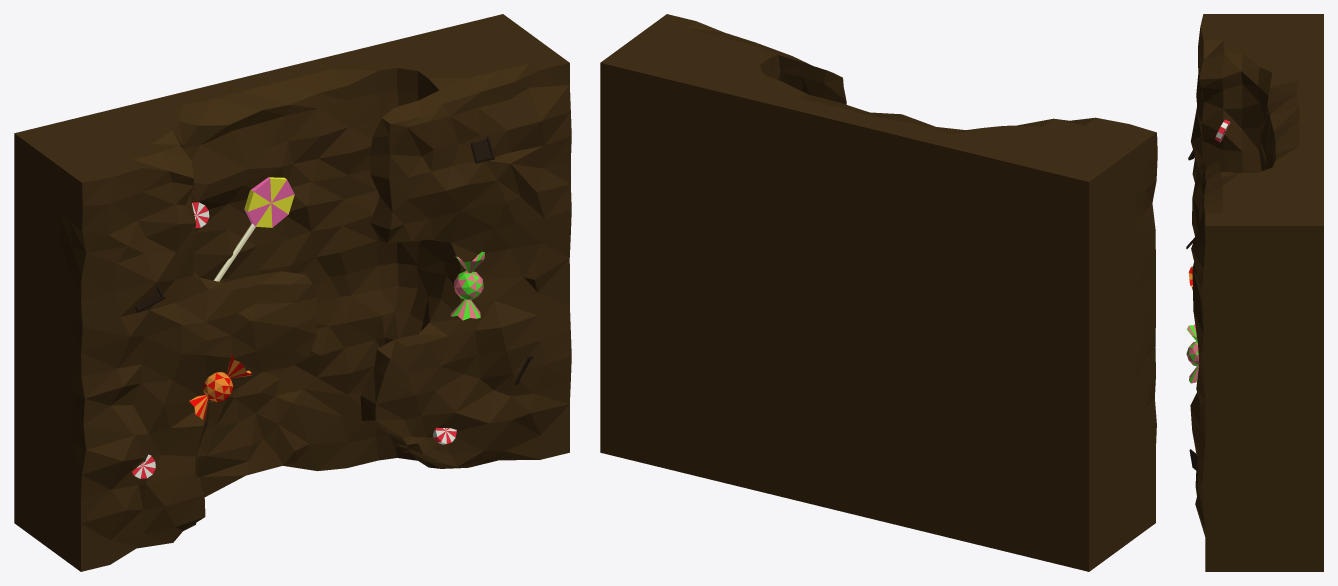
The model's file is level_Module_05.fbx.
3 views of the same model, side by side, from view 1: azimuth 30°, elevation 25°; view 2: azimuth 150°, elevation 25°; view 3: azimuth 270°, elevation 25° (orthographic). The views are drawn at different scales.
Visible parts, largest first — view 1: Cube, Cylinder, Candy, Candy.001; view 2: Cube; view 3: Cube, Candy.
Boxes of the visible parts, box(x1,y1,x2,y2) form: Cube: box(14, 14, 571, 571); Cylinder: box(213, 177, 294, 281); Candy: box(450, 251, 484, 320); Candy.001: box(189, 353, 251, 419); Cube: box(600, 14, 1157, 571); Cube: box(1190, 14, 1323, 571); Candy: box(1186, 324, 1199, 383).
Bounding box in the file's own units: 2100 × 1603 × 577.
